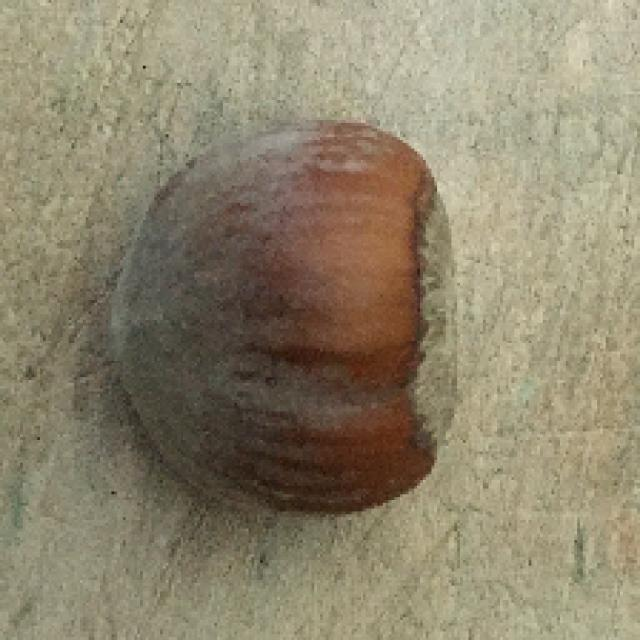qualityHazelnut: (109, 118, 457, 523)
